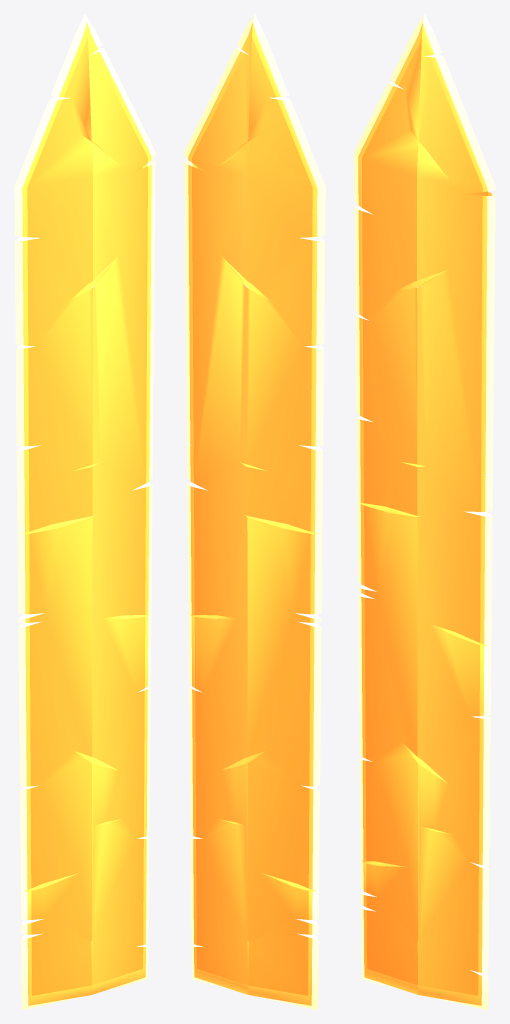
Rendered from gold_blade_scratched_049.glb.
The picture shows the model from 3 angles, left to right: view 1: azimuth 30°, elevation 25°; view 2: azimuth 150°, elevation 25°; view 3: azimuth 330°, elevation 25°; orthographic projection.
Visible parts, largest first — view 1: gold_blade_scratched.049; view 2: gold_blade_scratched.049; view 3: gold_blade_scratched.049.
Part boxes in pixels (left/top/right/bottom): gold_blade_scratched.049: left=14, top=14, right=155, bottom=1009; gold_blade_scratched.049: left=184, top=14, right=325, bottom=1009; gold_blade_scratched.049: left=354, top=14, right=495, bottom=1009.
Bounding box in the file's own units: 1.71 × 11.4 × 0.3369.
1 material, 1 textured.
